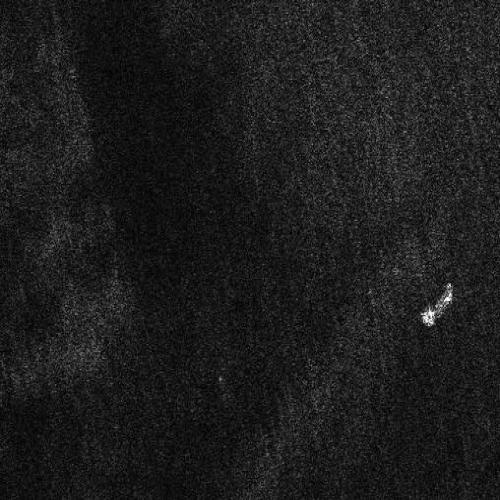ship: (422, 284, 454, 327)
